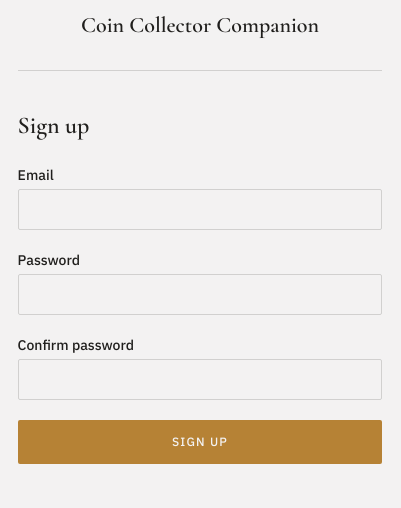
Test case: SignupPage › criterion 4: surfaces a rejected submission via lib/form-errors, not an unhandled exception › shows a field-level error when the ApiError detail matches a known field
Type "new-user@example.com" into the field with id "email" at (200, 210), box x1=18 y1=189 x2=382 y2=230
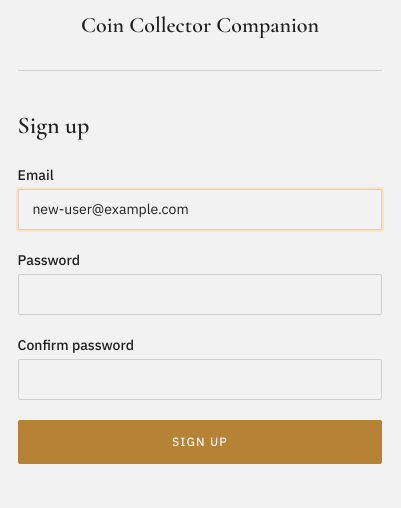
Type "short" into the password field labelled "Password" at (200, 294), box x1=18 y1=274 x2=382 y2=315
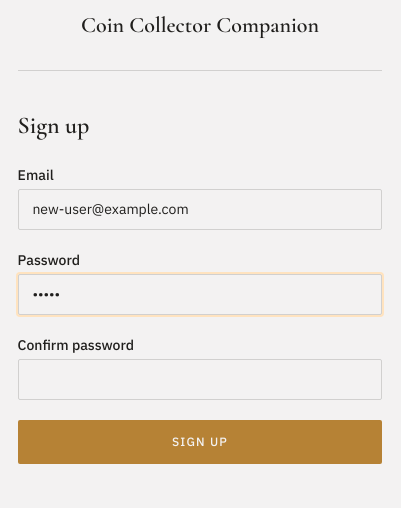
Type "short" into the password field with id "confirmPassword" at (200, 379), box x1=18 y1=359 x2=382 y2=400
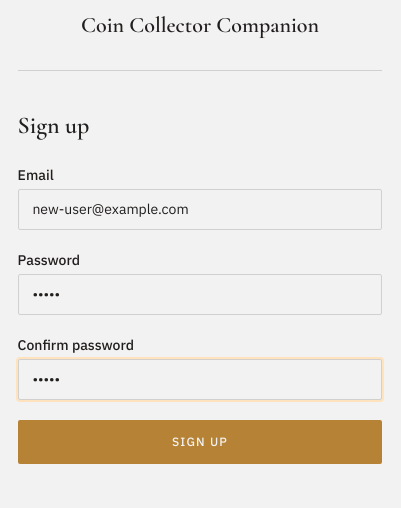
Click the button with test id "signup-submit" at (200, 442), box x1=18 y1=420 x2=382 y2=464
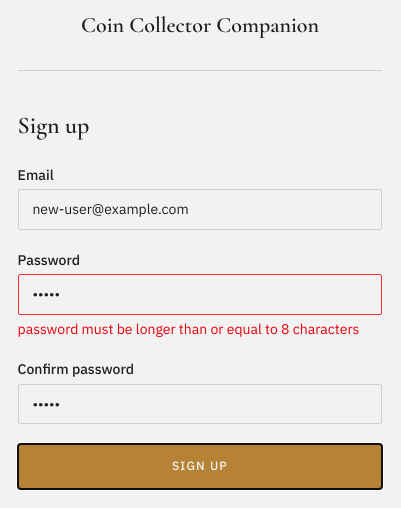
Check: the text "password must be longer than or equal to 8 characters" is shown, box x1=18 y1=319 x2=382 y2=339
